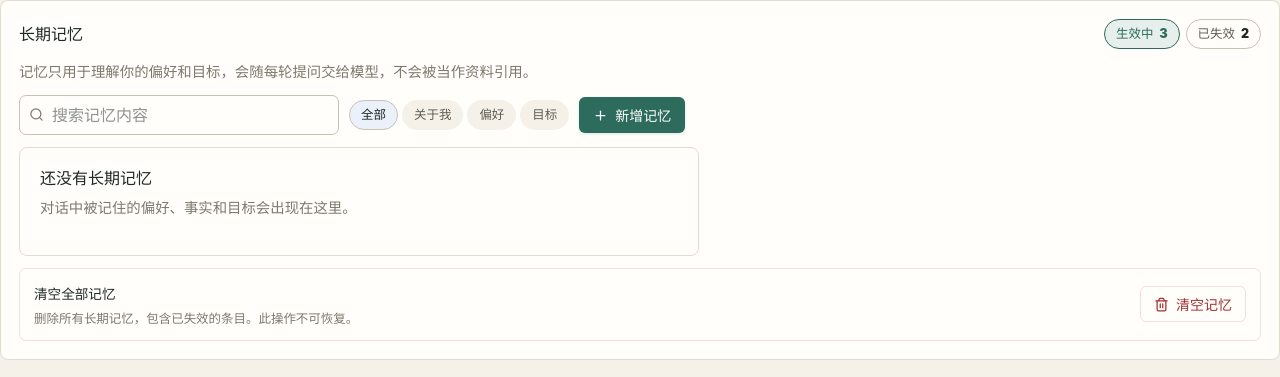
it: MemorySection › sends the debounced keyword together with the status filter
expect the heading "还没有长期记忆" is shown: met, box [40, 168, 152, 188]
In the field labelled "搜索记忆": (179, 115) [19, 95, 339, 135], type "缓存"
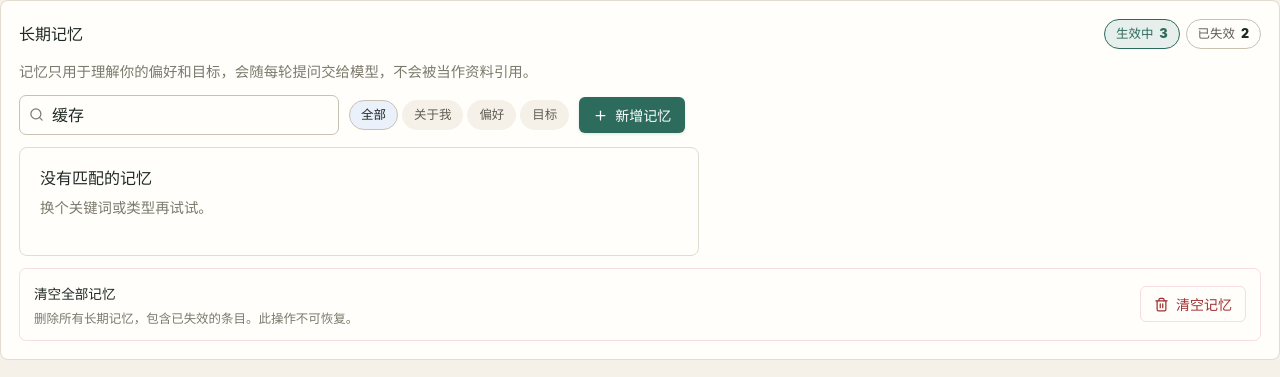
expect the heading "没有匹配的记忆" is shown: met, box [40, 168, 152, 188]
